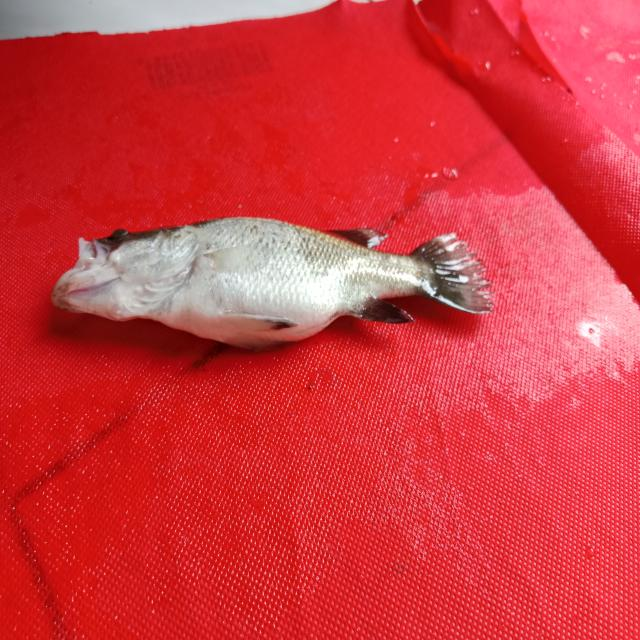ikan: (36, 168, 499, 378)
